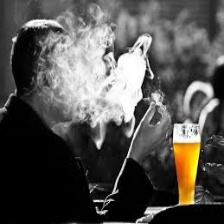smoke: (67, 44, 141, 115)
